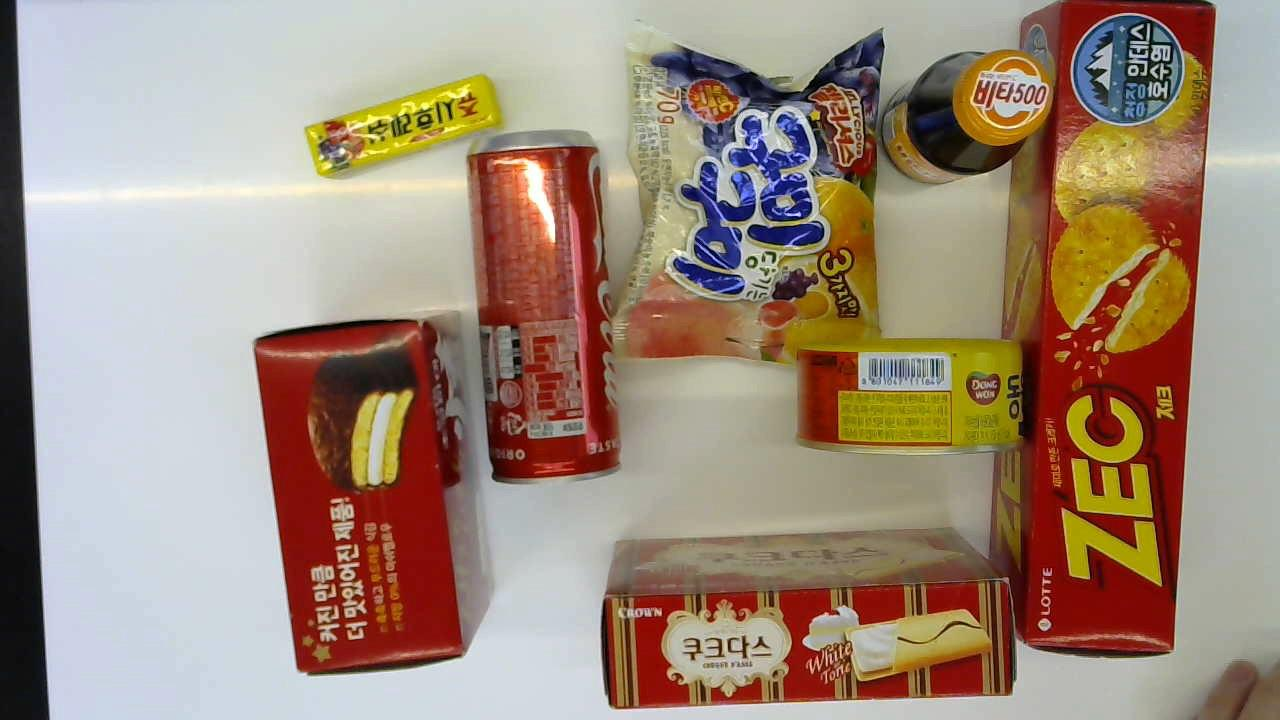chocopie: (249, 306, 489, 675)
coke: (460, 128, 624, 486)
couque_white: (597, 529, 1018, 707)
gumi_gumi: (610, 15, 884, 366)
juicyfresh: (303, 73, 496, 176)
tuna: (797, 335, 1025, 456)
vita500: (887, 44, 1043, 187)
zec: (985, 0, 1216, 659)
